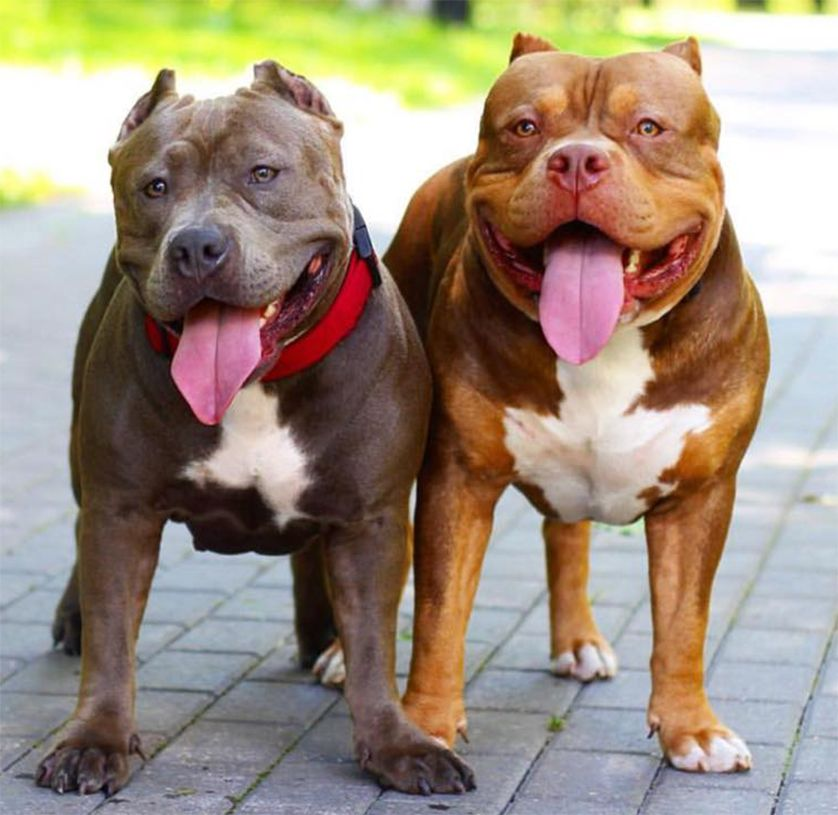dog: (35, 57, 475, 799), (365, 28, 775, 782)
